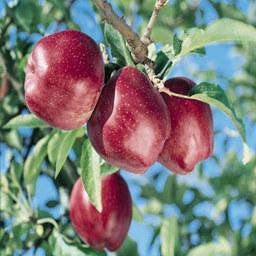apple: (86, 66, 171, 174), (24, 30, 103, 129), (154, 77, 215, 174), (69, 172, 134, 251)
